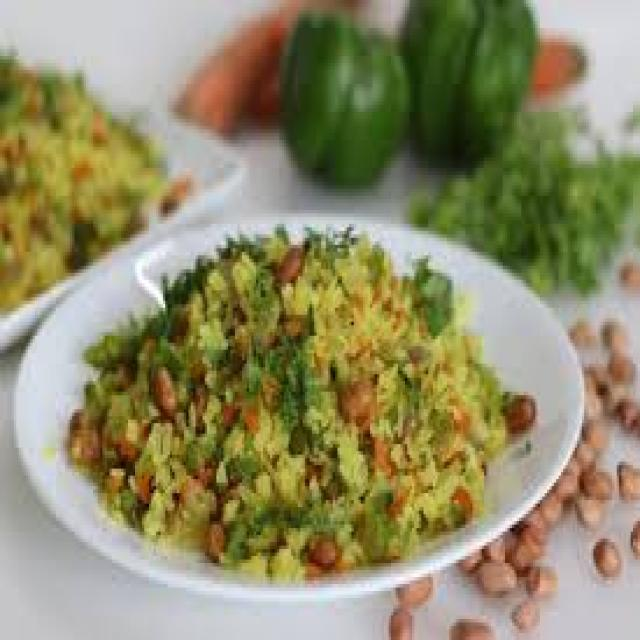UPMA: (61, 231, 521, 577)
